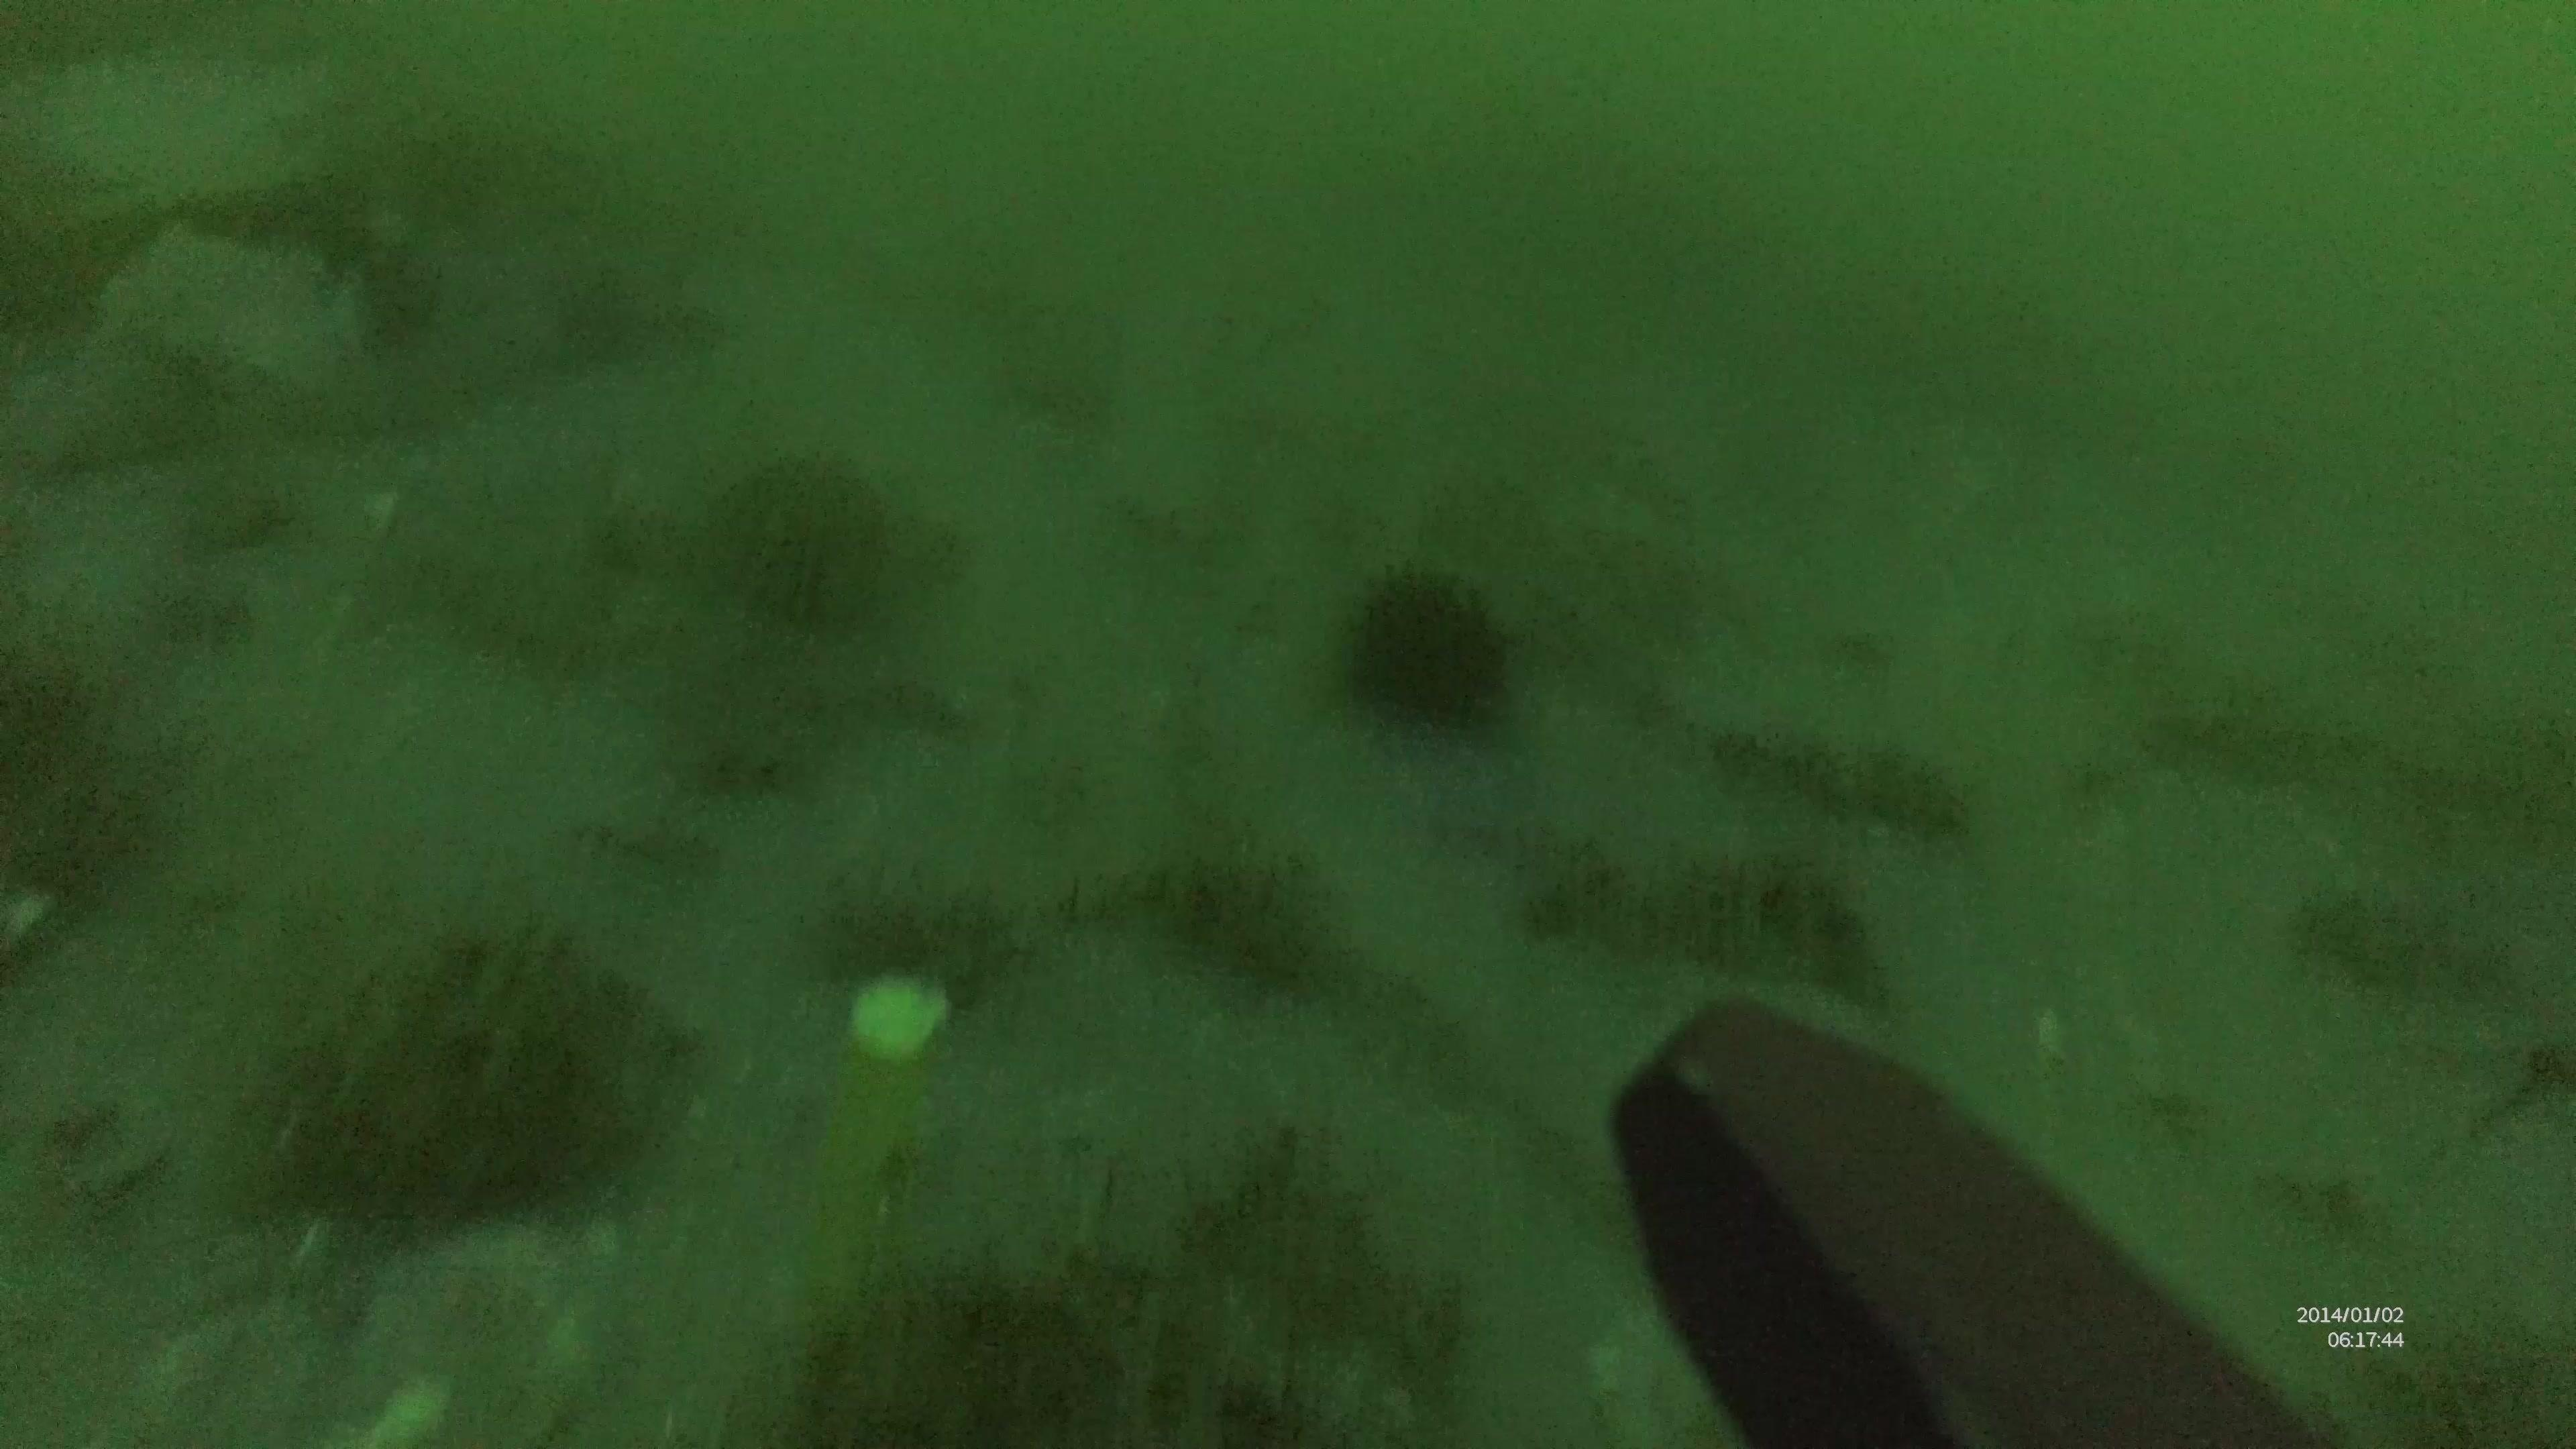echinus: (1341, 573, 1520, 729)
scallop: (1582, 1297, 1732, 1447)
